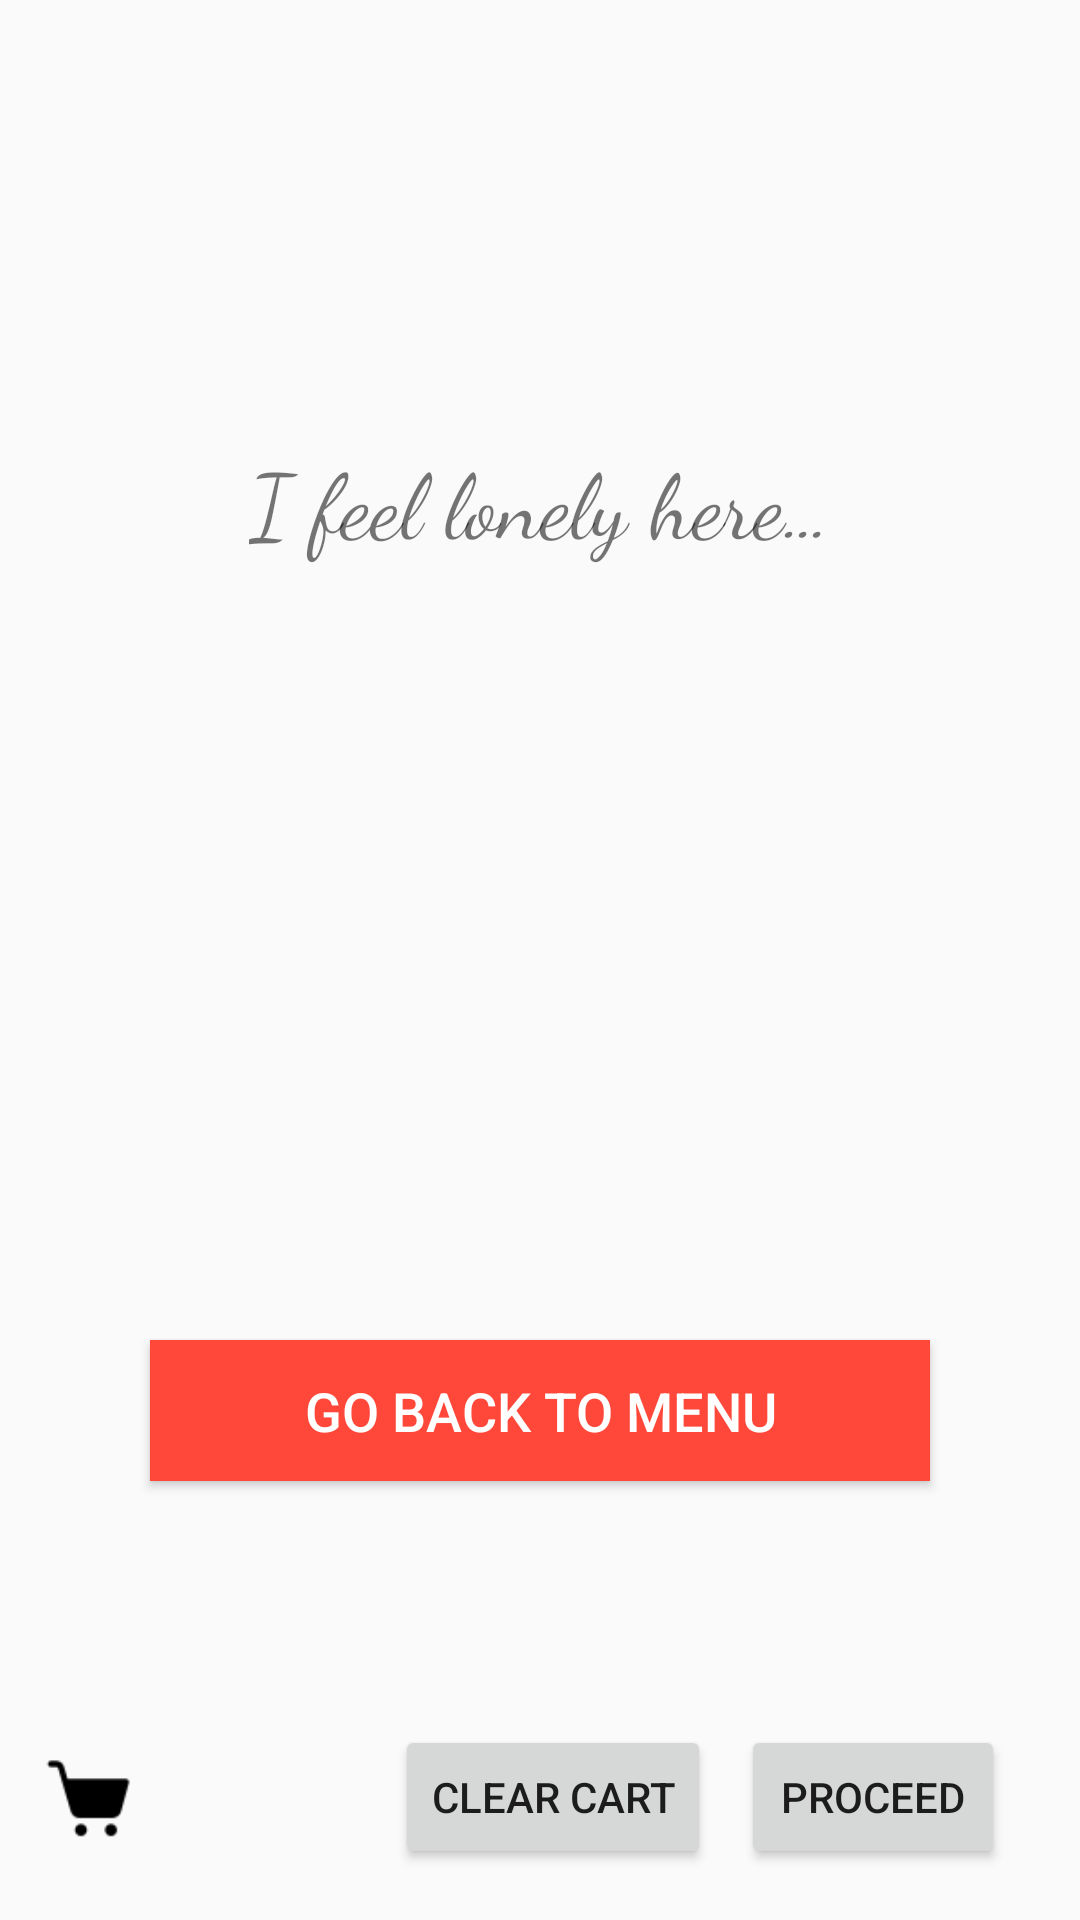

Icons on this 1080 × 1920 Android screen, each with the point to tap as (x=x, y=y):
Cart: (x=88, y=1798)
